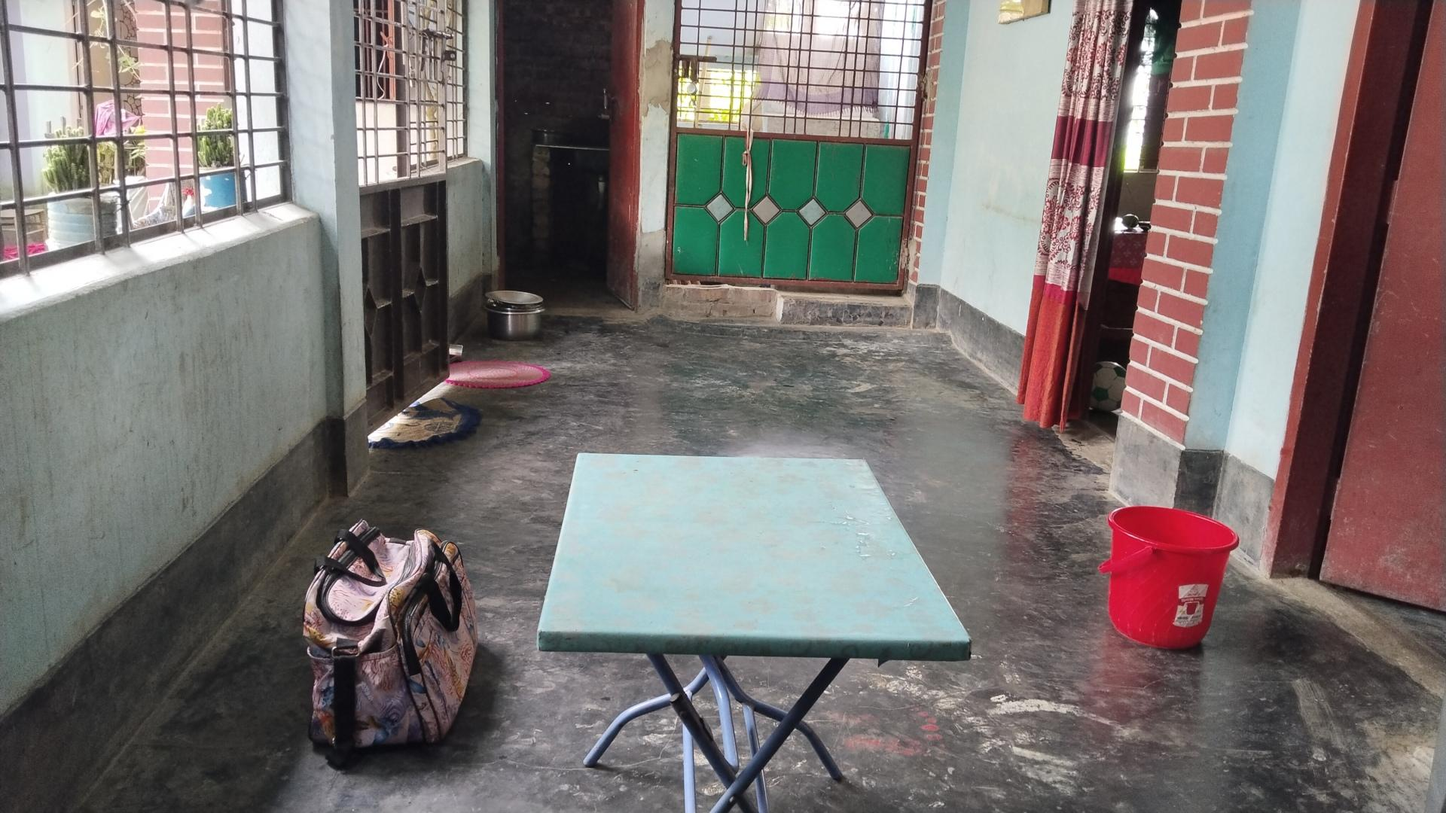Bag: (319, 513, 473, 767)
Bucket: (1101, 500, 1227, 645)
Door: (674, 5, 915, 300), (496, 0, 633, 310)
Floor Mat: (436, 354, 546, 395)
Table: (538, 447, 971, 813)
